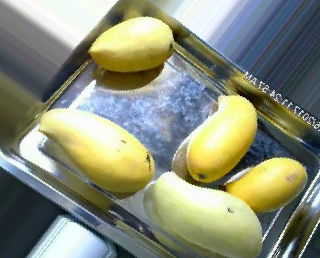Mango: (40, 105, 156, 197), (149, 168, 264, 256), (180, 92, 259, 183), (89, 14, 175, 77), (222, 154, 307, 215)
